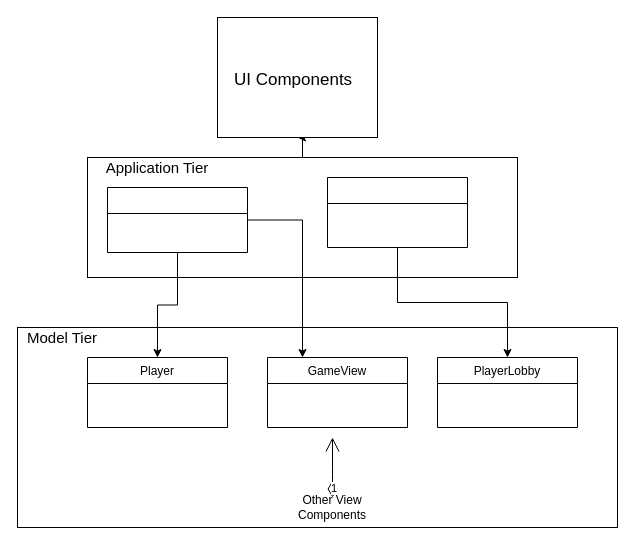
Some shapes in this 635 by 545 pixel diagram are drawn without their labels. Here are the shapes that lost their labels. From the top down, the box of each, then its label:
(106, 186, 248, 252): GameBoard
(326, 176, 468, 248): GameCenter
